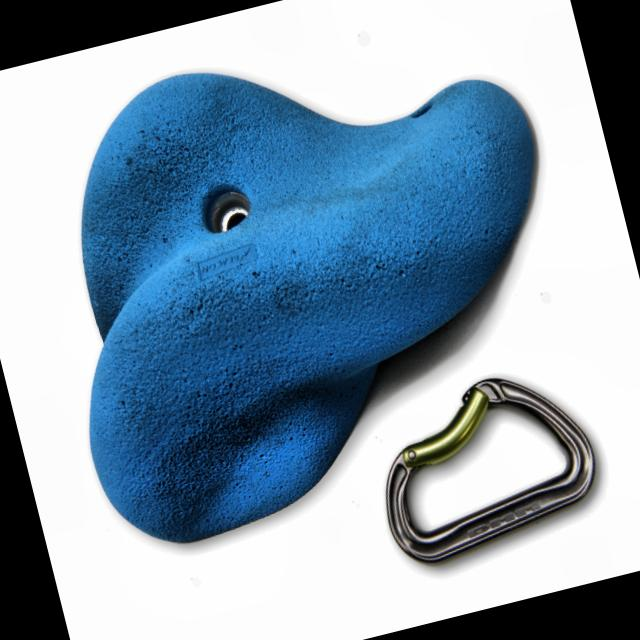Hold: (50, 33, 567, 566)
